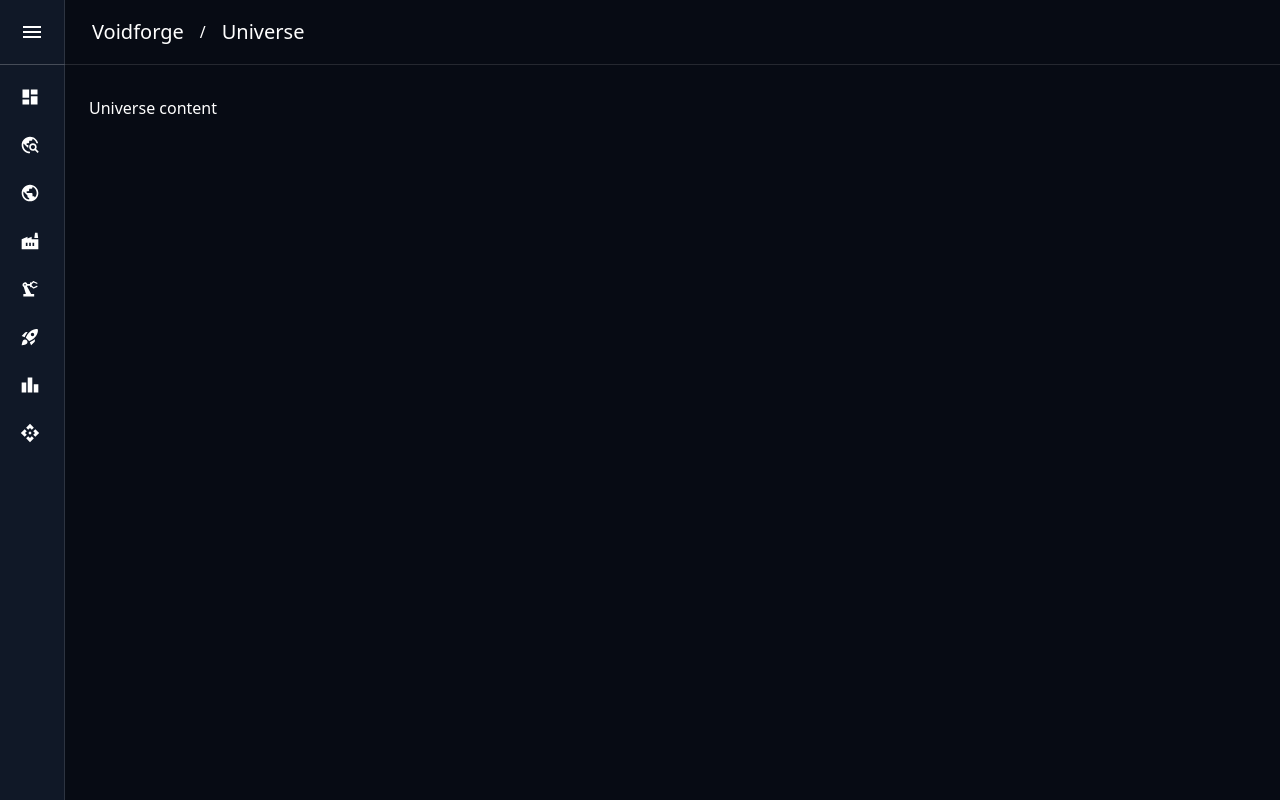
AppShellLayout › toggles the mini drawer expansion state
The width and height of the screenshot is (1280, 800).
Step 1. Click the button named "Expand navigation" → (32, 32), box [12, 12, 52, 52]
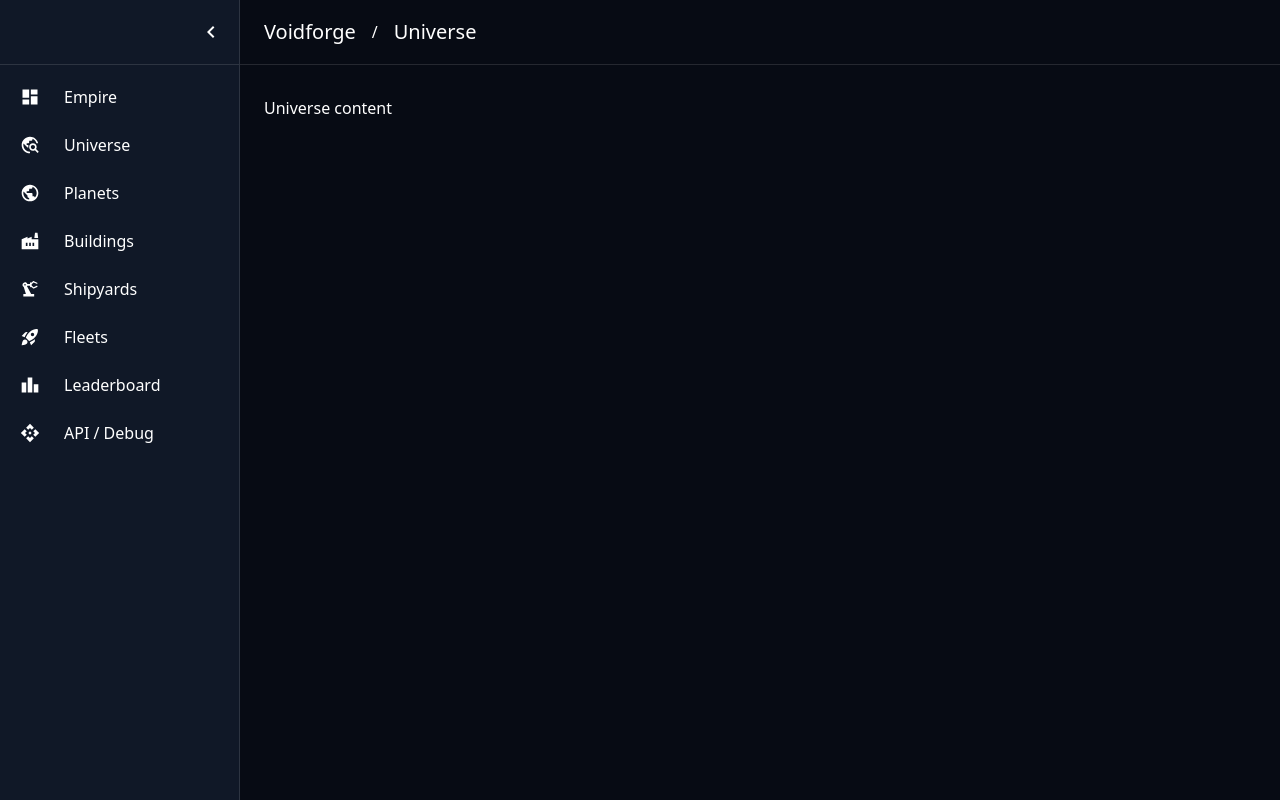
Check: the button named "Collapse navigation" is shown, box [191, 12, 231, 52]
